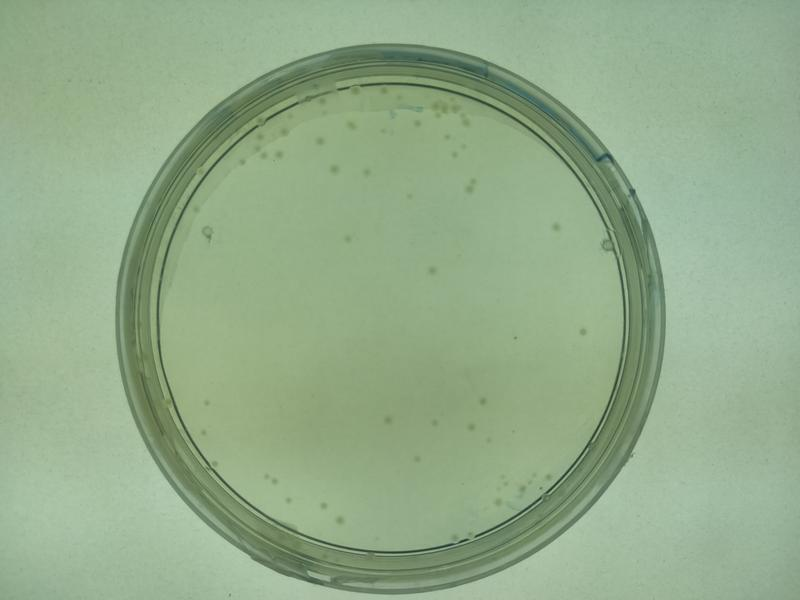colony: (563, 314, 592, 347), (418, 410, 452, 438), (543, 215, 572, 244), (332, 225, 360, 254), (465, 388, 498, 411), (460, 415, 489, 441), (420, 259, 444, 288), (355, 162, 384, 185), (403, 451, 434, 472), (376, 408, 403, 432), (322, 161, 347, 185), (310, 126, 332, 153), (330, 509, 354, 530), (313, 491, 332, 512)
